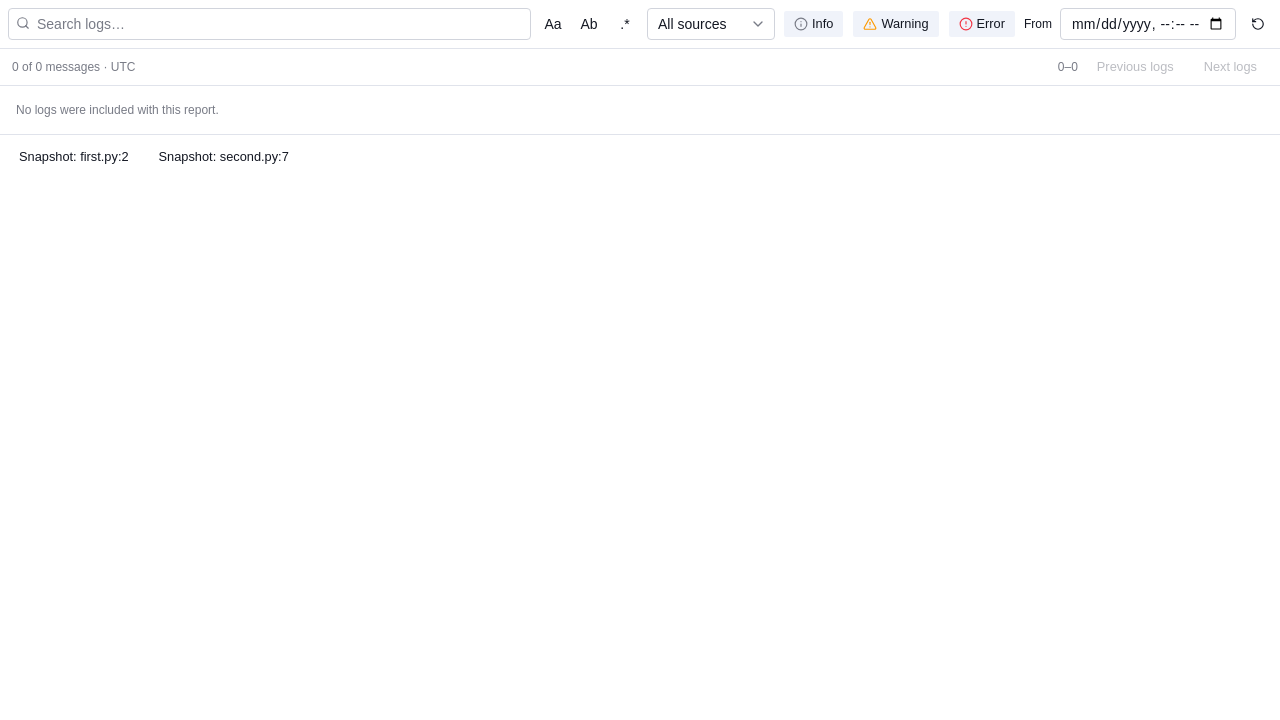
it: UI-L04: closing while source is loading prevents a delayed response from reopening the dialog
What coordinates should you click on to do the following:
click the button "Snapshot: first.py:2"
I would click on:
 (74, 157)
Its box is [8,143,140,171].
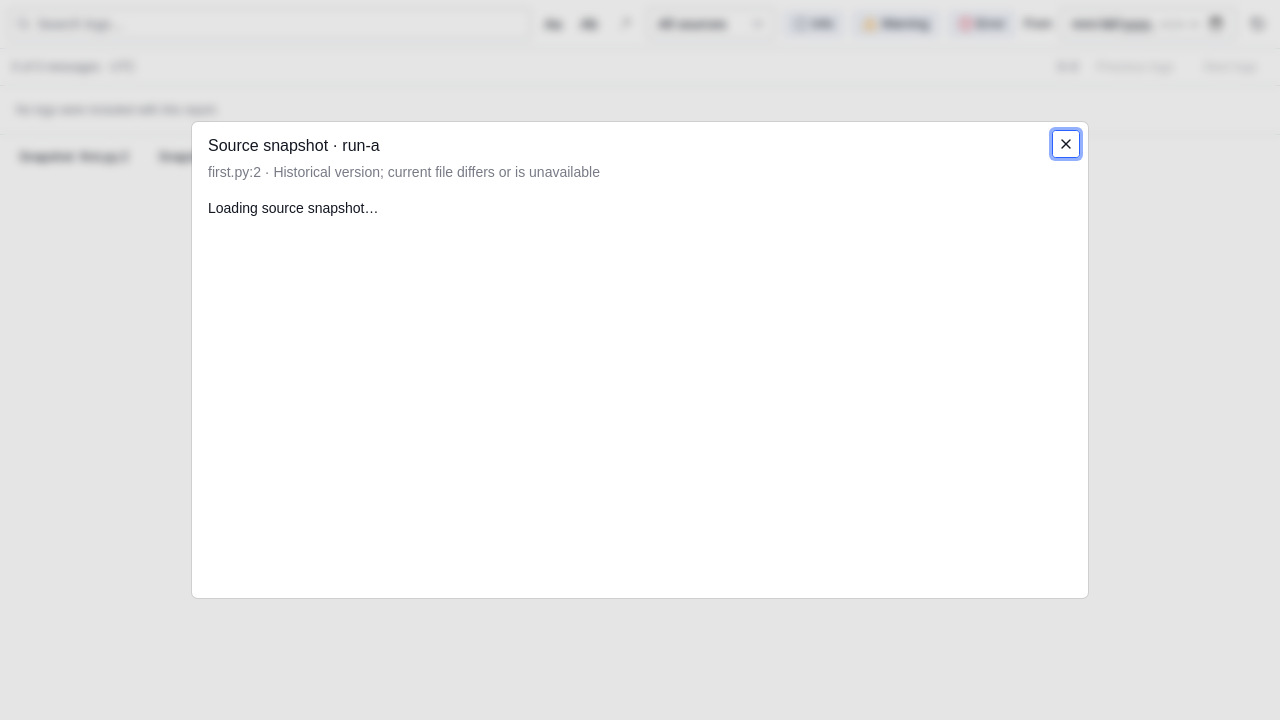
What coordinates should you click on to do the following:
click the button named "Close"
I would click on:
 (1066, 144)
Its box is [1052,130,1080,158].
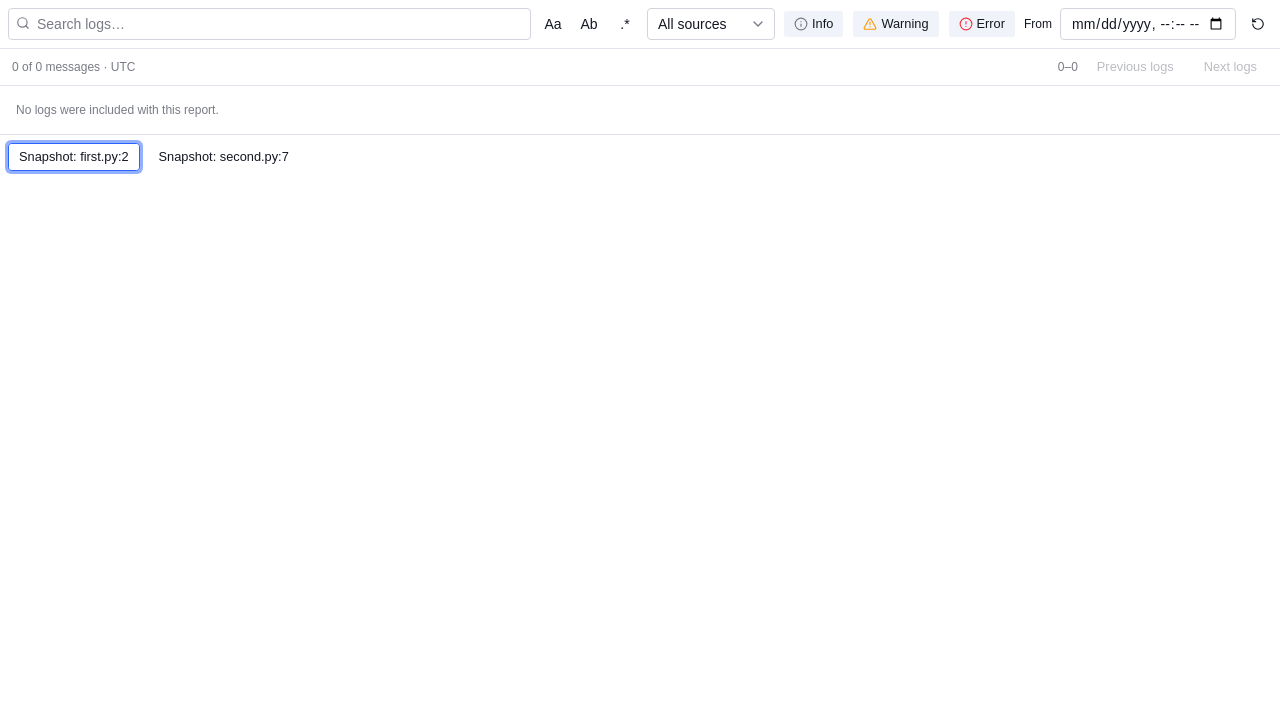
Result: the dialog is gone
